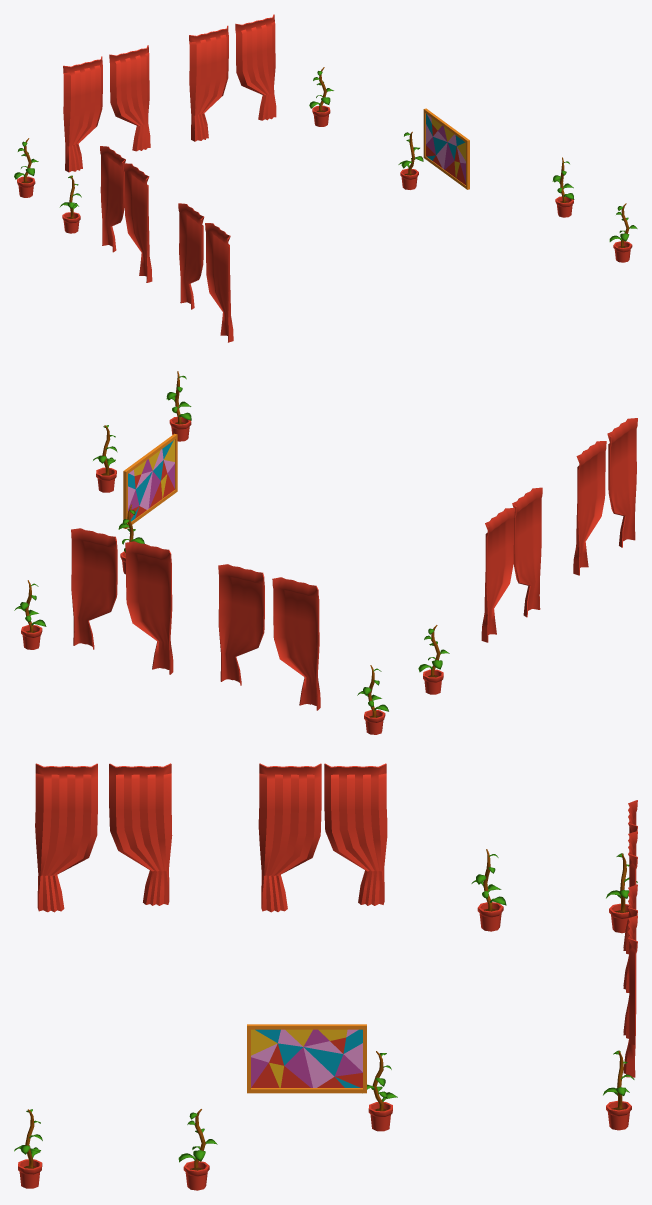
The model's file is Deco.FBX.
3 views of the same model, one above another, from view 1: azimuth 30°, elevation 25°; view 2: azimuth 150°, elevation 25°; view 3: azimuth 270°, elevation 25° (orthographic). The views are drawn at different scales.
Parts seen in each view (by area): view 1: Deco; view 2: Deco; view 3: Deco.
Part boxes in pixels (bbox=[...]): Deco: bbox=[14, 14, 637, 342]; Deco: bbox=[14, 371, 637, 734]; Deco: bbox=[14, 763, 637, 1190].
Bounding box in the file's own units: 16.77 × 4.53 × 16.21.
